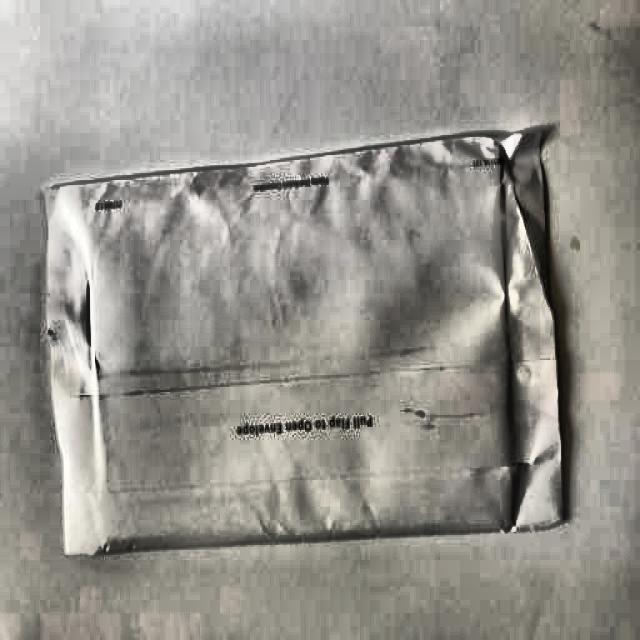paper: (34, 147, 570, 541)
